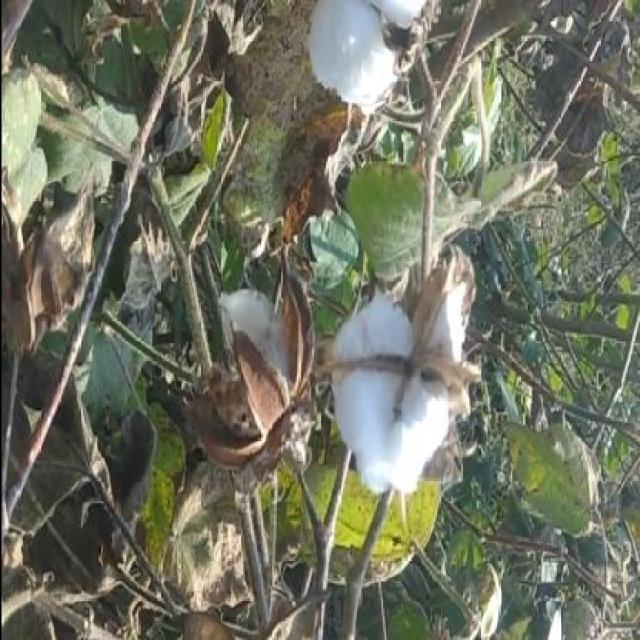cotton_ready: (307, 238, 473, 524)
